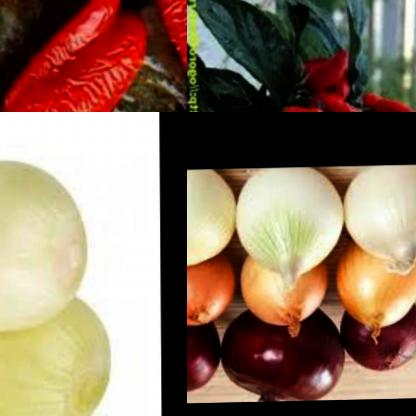bell pepper: (0, 0, 145, 112), (153, 0, 187, 109)
hot pepper: (306, 48, 352, 95), (363, 88, 416, 112), (280, 100, 329, 112)
onion: (0, 155, 90, 335), (0, 287, 116, 416), (239, 168, 345, 288), (217, 305, 344, 404), (338, 166, 416, 275), (236, 255, 336, 339), (336, 241, 416, 340), (338, 302, 416, 381), (187, 170, 237, 268), (187, 252, 236, 331), (187, 310, 224, 398)
